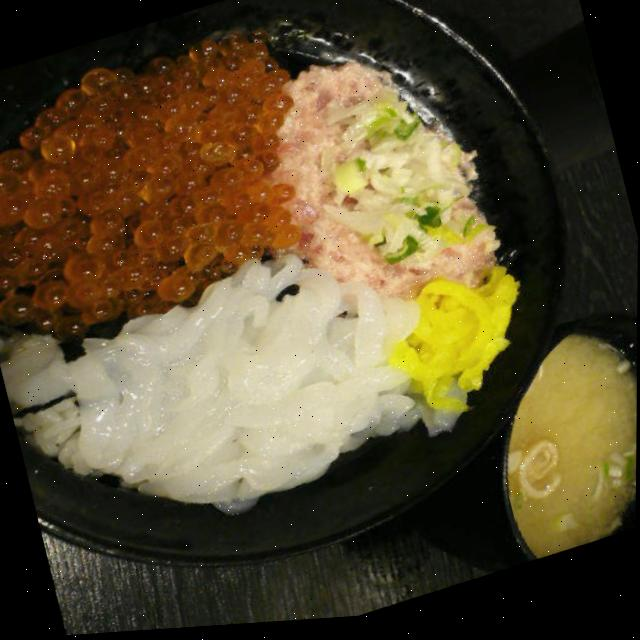刺身生食: (0, 125, 570, 639)
